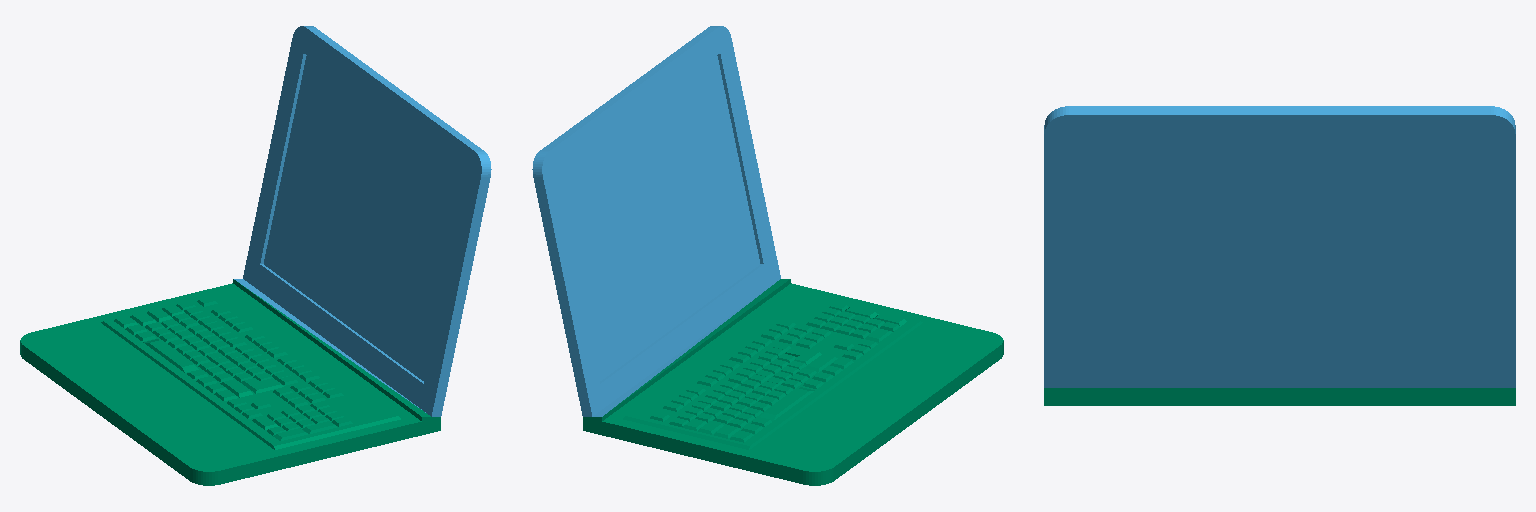
The robot description file, URDF, robot "partnet_20d42e934260b59c53c0c910fd6231ef":
<robot name="partnet_20d42e934260b59c53c0c910fd6231ef">
	<link name="base" />
	<link name="link_0">
		<collision>
			<origin xyz="-0.5328969218391331 0.19257299999999988 0.18027012176360718" />
			<geometry>
				<mesh filename="new_objs/9996_link_0_1.obj" />
			</geometry>
		</collision>
		<collision>
			<origin xyz="-0.5328969218391331 0.19257299999999988 0.18027012176360718" />
			<geometry>
				<mesh filename="new_objs/9996_link_0_5.obj" />
			</geometry>
		</collision>
		<collision>
			<origin xyz="-0.5328969218391331 0.19257299999999988 0.18027012176360718" />
			<geometry>
				<mesh filename="new_objs/9996_link_0_8.obj" />
			</geometry>
		</collision>
		<collision>
			<origin xyz="-0.5328969218391331 0.19257299999999988 0.18027012176360718" />
			<geometry>
				<mesh filename="new_objs/9996_link_0_3.obj" />
			</geometry>
		</collision>
		<collision>
			<origin xyz="-0.5328969218391331 0.19257299999999988 0.18027012176360718" />
			<geometry>
				<mesh filename="new_objs/9996_link_0_2.obj" />
			</geometry>
		</collision>
		<collision>
			<origin xyz="-0.5328969218391331 0.19257299999999988 0.18027012176360718" />
			<geometry>
				<mesh filename="new_objs/9996_link_0_4.obj" />
			</geometry>
		</collision>
		<collision>
			<origin xyz="-0.5328969218391331 0.19257299999999988 0.18027012176360718" />
			<geometry>
				<mesh filename="new_objs/9996_link_0_9.obj" />
			</geometry>
		</collision>
		<collision>
			<origin xyz="-0.5328969218391331 0.19257299999999988 0.18027012176360718" />
			<geometry>
				<mesh filename="new_objs/9996_link_0_7.obj" />
			</geometry>
		</collision>
		<collision>
			<origin xyz="-0.5328969218391331 0.19257299999999988 0.18027012176360718" />
			<geometry>
				<mesh filename="new_objs/9996_link_0_6.obj" />
			</geometry>
		</collision>
		<collision>
			<origin xyz="-0.5328969218391331 0.19257299999999988 0.18027012176360718" />
			<geometry>
				<mesh filename="new_objs/9996_link_0_0.obj" />
			</geometry>
		</collision>
		<visual name="screen-part[&quot;id]">
			<origin xyz="-0.5328969218391331 0.19257299999999988 0.18027012176360718" />
			<geometry>
				<mesh filename="textured_objs/new-4.obj" />
			</geometry>
		</visual>
		<visual name="screen_frame-part[&quot;id]">
			<origin xyz="-0.5328969218391331 0.19257299999999988 0.18027012176360718" />
			<geometry>
				<mesh filename="textured_objs/new-5.obj" />
			</geometry>
		</visual>
		</link>
	<joint name="joint_0" type="revolute">
		<origin xyz="0.5328969218391331 -0.19257299999999988 -0.18027012176360718" />
		<axis xyz="-0.9751079796646029 0 0" />
		<child link="link_0" />
		<parent link="link_1" />
		<limit lower="-1.8095573684677209" upper="1.338318470429252" />
	</joint>
	<link name="link_1">
		<collision>
			<origin xyz="0 0 0" />
			<geometry>
				<mesh filename="new_objs/9996_link_1_0.obj" />
			</geometry>
		</collision>
		<visual name="keyboard-part[&quot;id]">
			<origin xyz="0 0 0" />
			<geometry>
				<mesh filename="textured_objs/original-23.obj" />
			</geometry>
		</visual>
		<visual name="keyboard-part[&quot;id]">
			<origin xyz="0 0 0" />
			<geometry>
				<mesh filename="textured_objs/original-26.obj" />
			</geometry>
		</visual>
		<visual name="keyboard-part[&quot;id]">
			<origin xyz="0 0 0" />
			<geometry>
				<mesh filename="textured_objs/original-51.obj" />
			</geometry>
		</visual>
		<visual name="keyboard-part[&quot;id]">
			<origin xyz="0 0 0" />
			<geometry>
				<mesh filename="textured_objs/original-55.obj" />
			</geometry>
		</visual>
		<visual name="keyboard-part[&quot;id]">
			<origin xyz="0 0 0" />
			<geometry>
				<mesh filename="textured_objs/original-52.obj" />
			</geometry>
		</visual>
		<visual name="keyboard-part[&quot;id]">
			<origin xyz="0 0 0" />
			<geometry>
				<mesh filename="textured_objs/original-47.obj" />
			</geometry>
		</visual>
		<visual name="keyboard-part[&quot;id]">
			<origin xyz="0 0 0" />
			<geometry>
				<mesh filename="textured_objs/original-38.obj" />
			</geometry>
		</visual>
		<visual name="keyboard-part[&quot;id]">
			<origin xyz="0 0 0" />
			<geometry>
				<mesh filename="textured_objs/original-56.obj" />
			</geometry>
		</visual>
		<visual name="keyboard-part[&quot;id]">
			<origin xyz="0 0 0" />
			<geometry>
				<mesh filename="textured_objs/original-57.obj" />
			</geometry>
		</visual>
		<visual name="keyboard-part[&quot;id]">
			<origin xyz="0 0 0" />
			<geometry>
				<mesh filename="textured_objs/original-2.obj" />
			</geometry>
		</visual>
		<visual name="keyboard-part[&quot;id]">
			<origin xyz="0 0 0" />
			<geometry>
				<mesh filename="textured_objs/original-103.obj" />
			</geometry>
		</visual>
		<visual name="keyboard-part[&quot;id]">
			<origin xyz="0 0 0" />
			<geometry>
				<mesh filename="textured_objs/original-3.obj" />
			</geometry>
		</visual>
		<visual name="keyboard-part[&quot;id]">
			<origin xyz="0 0 0" />
			<geometry>
				<mesh filename="textured_objs/original-4.obj" />
			</geometry>
		</visual>
		<visual name="keyboard-part[&quot;id]">
			<origin xyz="0 0 0" />
			<geometry>
				<mesh filename="textured_objs/original-100.obj" />
			</geometry>
		</visual>
		<visual name="keyboard-part[&quot;id]">
			<origin xyz="0 0 0" />
			<geometry>
				<mesh filename="textured_objs/original-99.obj" />
			</geometry>
		</visual>
		<visual name="keyboard-part[&quot;id]">
			<origin xyz="0 0 0" />
			<geometry>
				<mesh filename="textured_objs/original-101.obj" />
			</geometry>
		</visual>
		<visual name="keyboard-part[&quot;id]">
			<origin xyz="0 0 0" />
			<geometry>
				<mesh filename="textured_objs/original-102.obj" />
			</geometry>
		</visual>
		<visual name="keyboard-part[&quot;id]">
			<origin xyz="0 0 0" />
			<geometry>
				<mesh filename="textured_objs/original-95.obj" />
			</geometry>
		</visual>
		<visual name="keyboard-part[&quot;id]">
			<origin xyz="0 0 0" />
			<geometry>
				<mesh filename="textured_objs/original-97.obj" />
			</geometry>
		</visual>
		<visual name="keyboard-part[&quot;id]">
			<origin xyz="0 0 0" />
			<geometry>
				<mesh filename="textured_objs/original-96.obj" />
			</geometry>
		</visual>
		<visual name="keyboard-part[&quot;id]">
			<origin xyz="0 0 0" />
			<geometry>
				<mesh filename="textured_objs/original-98.obj" />
			</geometry>
		</visual>
		<visual name="keyboard-part[&quot;id]">
			<origin xyz="0 0 0" />
			<geometry>
				<mesh filename="textured_objs/original-92.obj" />
			</geometry>
		</visual>
		<visual name="keyboard-part[&quot;id]">
			<origin xyz="0 0 0" />
			<geometry>
				<mesh filename="textured_objs/original-93.obj" />
			</geometry>
		</visual>
		<visual name="keyboard-part[&quot;id]">
			<origin xyz="0 0 0" />
			<geometry>
				<mesh filename="textured_objs/original-91.obj" />
			</geometry>
		</visual>
		<visual name="keyboard-part[&quot;id]">
			<origin xyz="0 0 0" />
			<geometry>
				<mesh filename="textured_objs/original-94.obj" />
			</geometry>
		</visual>
		<visual name="keyboard-part[&quot;id]">
			<origin xyz="0 0 0" />
			<geometry>
				<mesh filename="textured_objs/original-104.obj" />
			</geometry>
		</visual>
		<visual name="keyboard-part[&quot;id]">
			<origin xyz="0 0 0" />
			<geometry>
				<mesh filename="textured_objs/original-106.obj" />
			</geometry>
		</visual>
		<visual name="keyboard-part[&quot;id]">
			<origin xyz="0 0 0" />
			<geometry>
				<mesh filename="textured_objs/original-105.obj" />
			</geometry>
		</visual>
		<visual name="keyboard-part[&quot;id]">
			<origin xyz="0 0 0" />
			<geometry>
				<mesh filename="textured_objs/original-5.obj" />
			</geometry>
		</visual>
		<visual name="keyboard-part[&quot;id]">
			<origin xyz="0 0 0" />
			<geometry>
				<mesh filename="textured_objs/original-6.obj" />
			</geometry>
		</visual>
		<visual name="keyboard-part[&quot;id]">
			<origin xyz="0 0 0" />
			<geometry>
				<mesh filename="textured_objs/original-7.obj" />
			</geometry>
		</visual>
		<visual name="keyboard-part[&quot;id]">
			<origin xyz="0 0 0" />
			<geometry>
				<mesh filename="textured_objs/original-8.obj" />
			</geometry>
		</visual>
		<visual name="keyboard-part[&quot;id]">
			<origin xyz="0 0 0" />
			<geometry>
				<mesh filename="textured_objs/original-9.obj" />
			</geometry>
		</visual>
		<visual name="keyboard-part[&quot;id]">
			<origin xyz="0 0 0" />
			<geometry>
				<mesh filename="textured_objs/original-10.obj" />
			</geometry>
		</visual>
		<visual name="keyboard-part[&quot;id]">
			<origin xyz="0 0 0" />
			<geometry>
				<mesh filename="textured_objs/original-12.obj" />
			</geometry>
		</visual>
		<visual name="keyboard-part[&quot;id]">
			<origin xyz="0 0 0" />
			<geometry>
				<mesh filename="textured_objs/original-14.obj" />
			</geometry>
		</visual>
		<visual name="keyboard-part[&quot;id]">
			<origin xyz="0 0 0" />
			<geometry>
				<mesh filename="textured_objs/original-11.obj" />
			</geometry>
		</visual>
		<visual name="keyboard-part[&quot;id]">
			<origin xyz="0 0 0" />
			<geometry>
				<mesh filename="textured_objs/original-13.obj" />
			</geometry>
		</visual>
		<visual name="keyboard-part[&quot;id]">
			<origin xyz="0 0 0" />
			<geometry>
				<mesh filename="textured_objs/original-16.obj" />
			</geometry>
		</visual>
		<visual name="keyboard-part[&quot;id]">
			<origin xyz="0 0 0" />
			<geometry>
				<mesh filename="textured_objs/original-15.obj" />
			</geometry>
		</visual>
		<visual name="keyboard-part[&quot;id]">
			<origin xyz="0 0 0" />
			<geometry>
				<mesh filename="textured_objs/original-17.obj" />
			</geometry>
		</visual>
		<visual name="keyboard-part[&quot;id]">
			<origin xyz="0 0 0" />
			<geometry>
				<mesh filename="textured_objs/original-63.obj" />
			</geometry>
		</visual>
		<visual name="keyboard-part[&quot;id]">
			<origin xyz="0 0 0" />
			<geometry>
				<mesh filename="textured_objs/original-29.obj" />
			</geometry>
		</visual>
		<visual name="keyboard-part[&quot;id]">
			<origin xyz="0 0 0" />
			<geometry>
				<mesh filename="textured_objs/original-27.obj" />
			</geometry>
		</visual>
		<visual name="keyboard-part[&quot;id]">
			<origin xyz="0 0 0" />
			<geometry>
				<mesh filename="textured_objs/original-28.obj" />
			</geometry>
		</visual>
		<visual name="keyboard-part[&quot;id]">
			<origin xyz="0 0 0" />
			<geometry>
				<mesh filename="textured_objs/original-22.obj" />
			</geometry>
		</visual>
		<visual name="keyboard-part[&quot;id]">
			<origin xyz="0 0 0" />
			<geometry>
				<mesh filename="textured_objs/original-21.obj" />
			</geometry>
		</visual>
		<visual name="keyboard-part[&quot;id]">
			<origin xyz="0 0 0" />
			<geometry>
				<mesh filename="textured_objs/original-25.obj" />
			</geometry>
		</visual>
		<visual name="keyboard-part[&quot;id]">
			<origin xyz="0 0 0" />
			<geometry>
				<mesh filename="textured_objs/original-20.obj" />
			</geometry>
		</visual>
		<visual name="keyboard-part[&quot;id]">
			<origin xyz="0 0 0" />
			<geometry>
				<mesh filename="textured_objs/original-19.obj" />
			</geometry>
		</visual>
		<visual name="keyboard-part[&quot;id]">
			<origin xyz="0 0 0" />
			<geometry>
				<mesh filename="textured_objs/original-24.obj" />
			</geometry>
		</visual>
		<visual name="keyboard-part[&quot;id]">
			<origin xyz="0 0 0" />
			<geometry>
				<mesh filename="textured_objs/original-18.obj" />
			</geometry>
		</visual>
		<visual name="keyboard-part[&quot;id]">
			<origin xyz="0 0 0" />
			<geometry>
				<mesh filename="textured_objs/original-39.obj" />
			</geometry>
		</visual>
		<visual name="keyboard-part[&quot;id]">
			<origin xyz="0 0 0" />
			<geometry>
				<mesh filename="textured_objs/original-49.obj" />
			</geometry>
		</visual>
		<visual name="keyboard-part[&quot;id]">
			<origin xyz="0 0 0" />
			<geometry>
				<mesh filename="textured_objs/original-53.obj" />
			</geometry>
		</visual>
		<visual name="keyboard-part[&quot;id]">
			<origin xyz="0 0 0" />
			<geometry>
				<mesh filename="textured_objs/original-54.obj" />
			</geometry>
		</visual>
		<visual name="keyboard-part[&quot;id]">
			<origin xyz="0 0 0" />
			<geometry>
				<mesh filename="textured_objs/original-50.obj" />
			</geometry>
		</visual>
		<visual name="keyboard-part[&quot;id]">
			<origin xyz="0 0 0" />
			<geometry>
				<mesh filename="textured_objs/original-37.obj" />
			</geometry>
		</visual>
		<visual name="keyboard-part[&quot;id]">
			<origin xyz="0 0 0" />
			<geometry>
				<mesh filename="textured_objs/original-40.obj" />
			</geometry>
		</visual>
		<visual name="keyboard-part[&quot;id]">
			<origin xyz="0 0 0" />
			<geometry>
				<mesh filename="textured_objs/original-48.obj" />
			</geometry>
		</visual>
		<visual name="keyboard-part[&quot;id]">
			<origin xyz="0 0 0" />
			<geometry>
				<mesh filename="textured_objs/original-46.obj" />
			</geometry>
		</visual>
		<visual name="keyboard-part[&quot;id]">
			<origin xyz="0 0 0" />
			<geometry>
				<mesh filename="textured_objs/original-34.obj" />
			</geometry>
		</visual>
		<visual name="keyboard-part[&quot;id]">
			<origin xyz="0 0 0" />
			<geometry>
				<mesh filename="textured_objs/original-31.obj" />
			</geometry>
		</visual>
		<visual name="keyboard-part[&quot;id]">
			<origin xyz="0 0 0" />
			<geometry>
				<mesh filename="textured_objs/original-43.obj" />
			</geometry>
		</visual>
		<visual name="keyboard-part[&quot;id]">
			<origin xyz="0 0 0" />
			<geometry>
				<mesh filename="textured_objs/original-33.obj" />
			</geometry>
		</visual>
		<visual name="keyboard-part[&quot;id]">
			<origin xyz="0 0 0" />
			<geometry>
				<mesh filename="textured_objs/original-41.obj" />
			</geometry>
		</visual>
		<visual name="keyboard-part[&quot;id]">
			<origin xyz="0 0 0" />
			<geometry>
				<mesh filename="textured_objs/original-30.obj" />
			</geometry>
		</visual>
		<visual name="keyboard-part[&quot;id]">
			<origin xyz="0 0 0" />
			<geometry>
				<mesh filename="textured_objs/original-44.obj" />
			</geometry>
		</visual>
		<visual name="keyboard-part[&quot;id]">
			<origin xyz="0 0 0" />
			<geometry>
				<mesh filename="textured_objs/original-35.obj" />
			</geometry>
		</visual>
		<visual name="keyboard-part[&quot;id]">
			<origin xyz="0 0 0" />
			<geometry>
				<mesh filename="textured_objs/original-45.obj" />
			</geometry>
		</visual>
		<visual name="keyboard-part[&quot;id]">
			<origin xyz="0 0 0" />
			<geometry>
				<mesh filename="textured_objs/original-58.obj" />
			</geometry>
		</visual>
		<visual name="keyboard-part[&quot;id]">
			<origin xyz="0 0 0" />
			<geometry>
				<mesh filename="textured_objs/original-59.obj" />
			</geometry>
		</visual>
		<visual name="keyboard-part[&quot;id]">
			<origin xyz="0 0 0" />
			<geometry>
				<mesh filename="textured_objs/original-42.obj" />
			</geometry>
		</visual>
		<visual name="keyboard-part[&quot;id]">
			<origin xyz="0 0 0" />
			<geometry>
				<mesh filename="textured_objs/original-36.obj" />
			</geometry>
		</visual>
		<visual name="keyboard-part[&quot;id]">
			<origin xyz="0 0 0" />
			<geometry>
				<mesh filename="textured_objs/original-32.obj" />
			</geometry>
		</visual>
		<visual name="keyboard-part[&quot;id]">
			<origin xyz="0 0 0" />
			<geometry>
				<mesh filename="textured_objs/original-62.obj" />
			</geometry>
		</visual>
		<visual name="keyboard-part[&quot;id]">
			<origin xyz="0 0 0" />
			<geometry>
				<mesh filename="textured_objs/original-60.obj" />
			</geometry>
		</visual>
		<visual name="keyboard-part[&quot;id]">
			<origin xyz="0 0 0" />
			<geometry>
				<mesh filename="textured_objs/original-61.obj" />
			</geometry>
		</visual>
		<visual name="keyboard-part[&quot;id]">
			<origin xyz="0 0 0" />
			<geometry>
				<mesh filename="textured_objs/original-64.obj" />
			</geometry>
		</visual>
		<visual name="keyboard-part[&quot;id]">
			<origin xyz="0 0 0" />
			<geometry>
				<mesh filename="textured_objs/original-66.obj" />
			</geometry>
		</visual>
		<visual name="keyboard-part[&quot;id]">
			<origin xyz="0 0 0" />
			<geometry>
				<mesh filename="textured_objs/original-65.obj" />
			</geometry>
		</visual>
		<visual name="keyboard-part[&quot;id]">
			<origin xyz="0 0 0" />
			<geometry>
				<mesh filename="textured_objs/original-67.obj" />
			</geometry>
		</visual>
		<visual name="keyboard-part[&quot;id]">
			<origin xyz="0 0 0" />
			<geometry>
				<mesh filename="textured_objs/original-72.obj" />
			</geometry>
		</visual>
		<visual name="keyboard-part[&quot;id]">
			<origin xyz="0 0 0" />
			<geometry>
				<mesh filename="textured_objs/original-71.obj" />
			</geometry>
		</visual>
		<visual name="keyboard-part[&quot;id]">
			<origin xyz="0 0 0" />
			<geometry>
				<mesh filename="textured_objs/original-73.obj" />
			</geometry>
		</visual>
		<visual name="keyboard-part[&quot;id]">
			<origin xyz="0 0 0" />
			<geometry>
				<mesh filename="textured_objs/original-68.obj" />
			</geometry>
		</visual>
		<visual name="keyboard-part[&quot;id]">
			<origin xyz="0 0 0" />
			<geometry>
				<mesh filename="textured_objs/original-69.obj" />
			</geometry>
		</visual>
		<visual name="keyboard-part[&quot;id]">
			<origin xyz="0 0 0" />
			<geometry>
				<mesh filename="textured_objs/original-70.obj" />
			</geometry>
		</visual>
		<visual name="keyboard-part[&quot;id]">
			<origin xyz="0 0 0" />
			<geometry>
				<mesh filename="textured_objs/original-82.obj" />
			</geometry>
		</visual>
		<visual name="keyboard-part[&quot;id]">
			<origin xyz="0 0 0" />
			<geometry>
				<mesh filename="textured_objs/original-80.obj" />
			</geometry>
		</visual>
		<visual name="keyboard-part[&quot;id]">
			<origin xyz="0 0 0" />
			<geometry>
				<mesh filename="textured_objs/original-74.obj" />
			</geometry>
		</visual>
		<visual name="keyboard-part[&quot;id]">
			<origin xyz="0 0 0" />
			<geometry>
				<mesh filename="textured_objs/original-78.obj" />
			</geometry>
		</visual>
		<visual name="keyboard-part[&quot;id]">
			<origin xyz="0 0 0" />
			<geometry>
				<mesh filename="textured_objs/original-90.obj" />
			</geometry>
		</visual>
		<visual name="keyboard-part[&quot;id]">
			<origin xyz="0 0 0" />
			<geometry>
				<mesh filename="textured_objs/original-89.obj" />
			</geometry>
		</visual>
		<visual name="keyboard-part[&quot;id]">
			<origin xyz="0 0 0" />
			<geometry>
				<mesh filename="textured_objs/original-88.obj" />
			</geometry>
		</visual>
		<visual name="keyboard-part[&quot;id]">
			<origin xyz="0 0 0" />
			<geometry>
				<mesh filename="textured_objs/original-79.obj" />
			</geometry>
		</visual>
		<visual name="keyboard-part[&quot;id]">
			<origin xyz="0 0 0" />
			<geometry>
				<mesh filename="textured_objs/original-77.obj" />
			</geometry>
		</visual>
		<visual name="keyboard-part[&quot;id]">
			<origin xyz="0 0 0" />
			<geometry>
				<mesh filename="textured_objs/original-75.obj" />
			</geometry>
		</visual>
		<visual name="keyboard-part[&quot;id]">
			<origin xyz="0 0 0" />
			<geometry>
				<mesh filename="textured_objs/original-85.obj" />
			</geometry>
		</visual>
		<visual name="keyboard-part[&quot;id]">
			<origin xyz="0 0 0" />
			<geometry>
				<mesh filename="textured_objs/original-83.obj" />
			</geometry>
		</visual>
		<visual name="keyboard-part[&quot;id]">
			<origin xyz="0 0 0" />
			<geometry>
				<mesh filename="textured_objs/original-84.obj" />
			</geometry>
		</visual>
		<visual name="keyboard-part[&quot;id]">
			<origin xyz="0 0 0" />
			<geometry>
				<mesh filename="textured_objs/original-86.obj" />
			</geometry>
		</visual>
		<visual name="keyboard-part[&quot;id]">
			<origin xyz="0 0 0" />
			<geometry>
				<mesh filename="textured_objs/original-87.obj" />
			</geometry>
		</visual>
		<visual name="keyboard-part[&quot;id]">
			<origin xyz="0 0 0" />
			<geometry>
				<mesh filename="textured_objs/original-76.obj" />
			</geometry>
		</visual>
		<visual name="keyboard-part[&quot;id]">
			<origin xyz="0 0 0" />
			<geometry>
				<mesh filename="textured_objs/original-81.obj" />
			</geometry>
		</visual>
		<visual name="touchpad_surface-part[&quot;id]">
			<origin xyz="0 0 0" />
			<geometry>
				<mesh filename="textured_objs/new-2.obj" />
			</geometry>
		</visual>
		<visual name="button-part[&quot;id]">
			<origin xyz="0 0 0" />
			<geometry>
				<mesh filename="textured_objs/new-1.obj" />
			</geometry>
		</visual>
		<visual name="button-part[&quot;id]">
			<origin xyz="0 0 0" />
			<geometry>
				<mesh filename="textured_objs/new-0.obj" />
			</geometry>
		</visual>
		<visual name="base_frame-part[&quot;id]">
			<origin xyz="0 0 0" />
			<geometry>
				<mesh filename="textured_objs/new-3.obj" />
			</geometry>
		</visual>
		</link>
	<joint name="joint_1" type="fixed">
		<origin rpy="1.570796326794897 0 -1.570796326794897" xyz="0 0 0" />
		<child link="link_1" />
		<parent link="base" />
	</joint>
</robot>

--- Render facts (derived) ---
Views: 3 orthographic renders of the robot side by side, from view 1: azimuth 30°, elevation 25°; view 2: azimuth 150°, elevation 25°; view 3: azimuth 270°, elevation 25°.
Model partnet_20d42e934260b59c53c0c910fd6231ef with 3 links and 2 joints (1 revolute, 1 fixed), rooted at base, posed all joints at 0.
Links seen in each view (by area): view 1: link_0, link_1; view 2: link_0, link_1; view 3: link_0, link_1.
Boxes of the visible links, x1,y1,x2,y2 form: link_0: (234,26,491,416); link_1: (20,279,440,485); link_0: (532,26,780,416); link_1: (583,279,1003,485); link_0: (1044,106,1515,387); link_1: (1044,388,1515,405).
Bounding box of the posed robot: 1.14 × 1.27 × 0.9677 m (x, y, z).
111 mesh visuals loaded from 111 distinct referenced files (111 OBJ).
